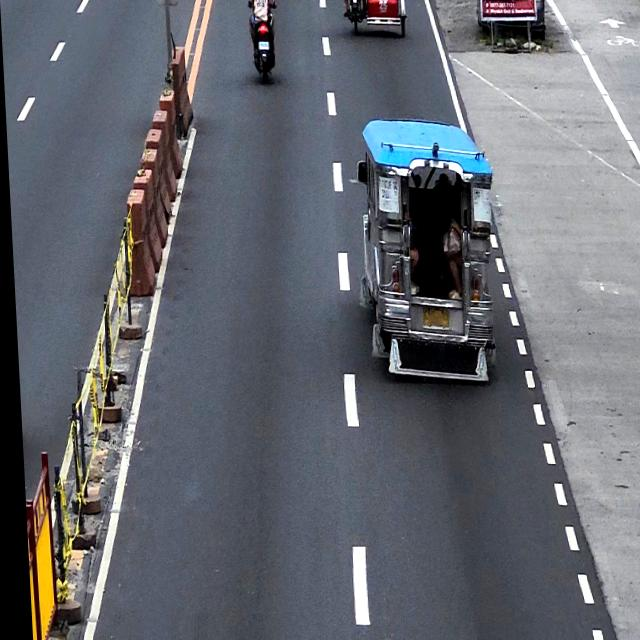Jeep: (354, 117, 499, 380)
License-Plate: (419, 306, 448, 328), (257, 40, 270, 50)
Motorcycle: (247, 0, 278, 84)
Tricycle: (345, 0, 408, 37)
